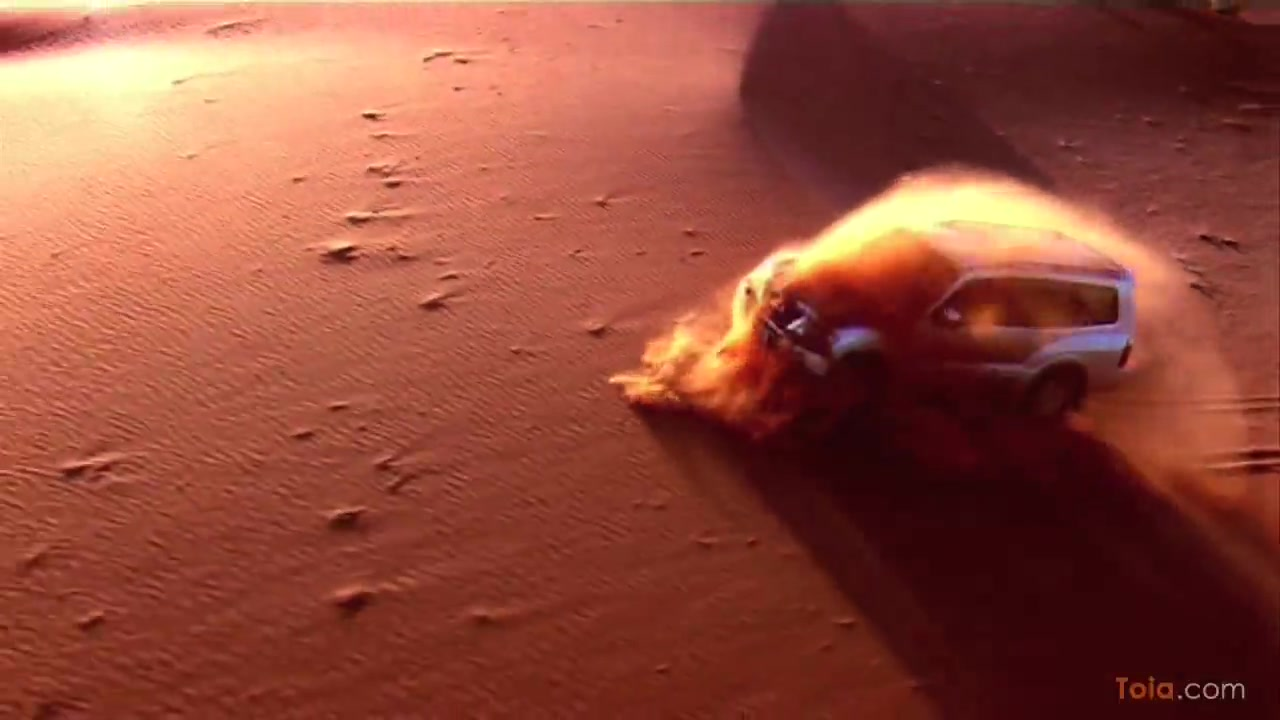car: (742, 218, 1138, 423)
